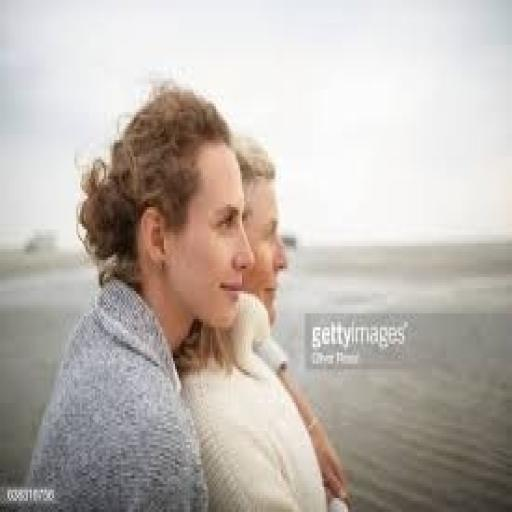hugging: (24, 78, 352, 510)
